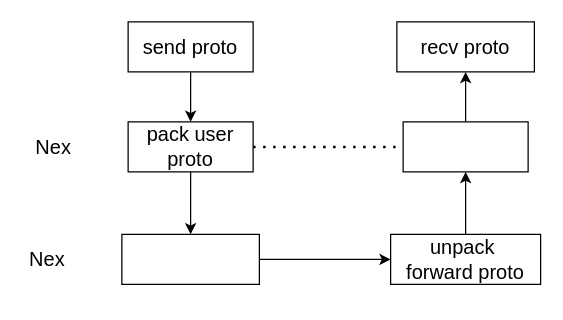
This 563x320 diagram has some shape labels left out. The box of each missing label's shape, as (x1, y1, x2, y2) in pixels:
pack forward proto: (121, 233, 259, 284)
unpack user proto: (402, 121, 528, 172)
